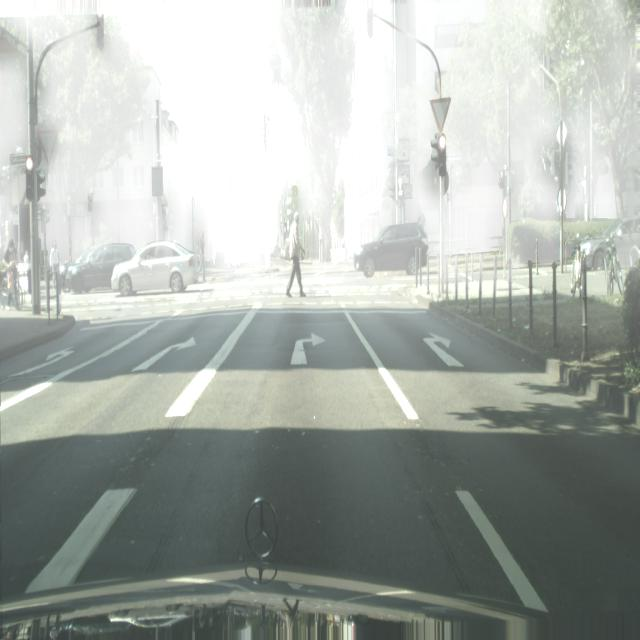car: (603, 236, 624, 298), (1, 264, 24, 311)
person: (286, 211, 307, 298), (5, 241, 22, 309), (49, 240, 59, 289), (198, 231, 206, 282)
truck: (110, 241, 200, 295), (353, 222, 430, 278), (63, 242, 137, 294), (583, 212, 640, 264)
